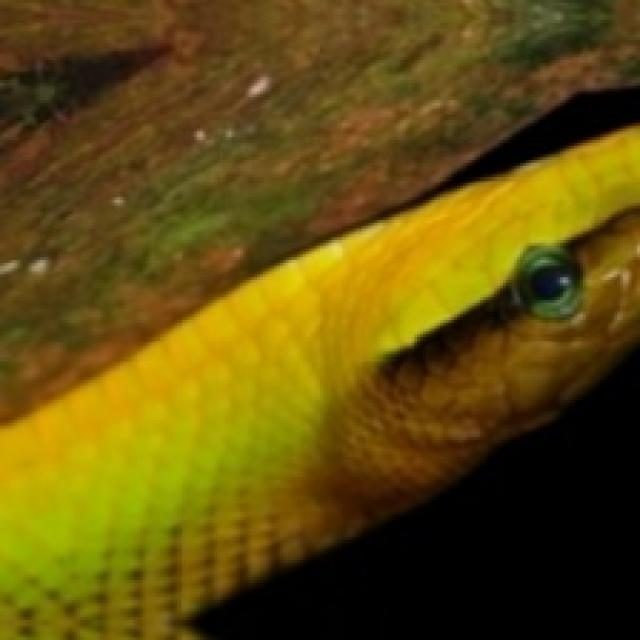red-tailed green ratsnake: (0, 126, 637, 637)
